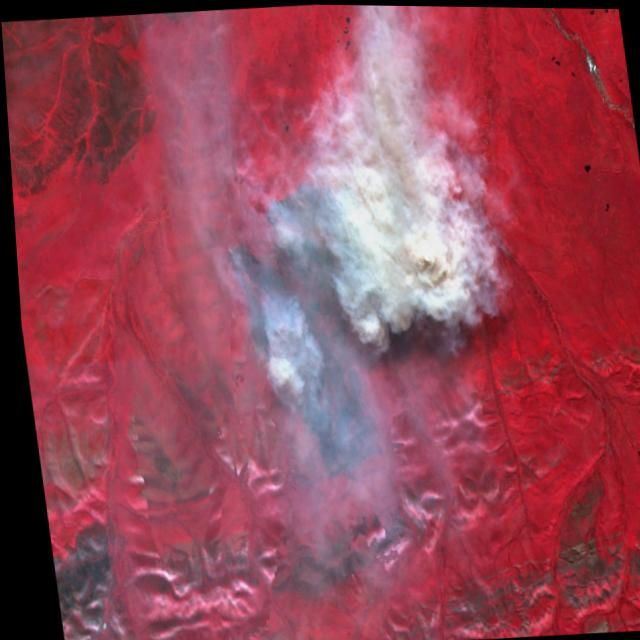fire: (209, 153, 437, 367)
